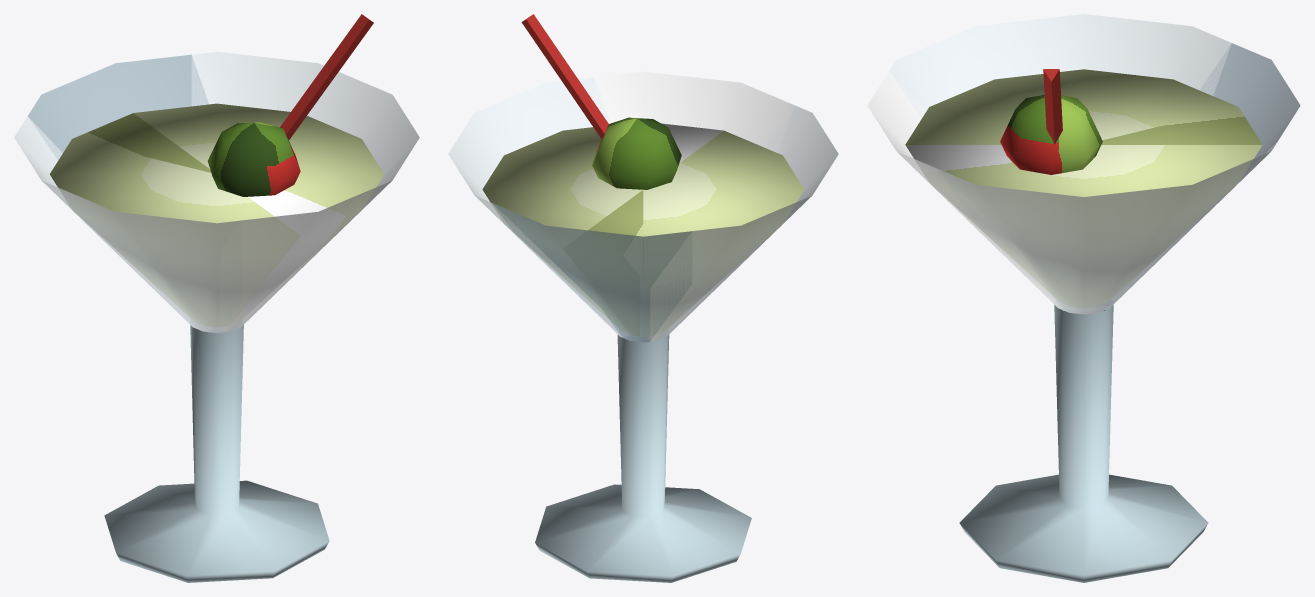
Rendered from drinks-cocktail.glb.
3 renders of one model, left to right at view 1: azimuth 30°, elevation 25°; view 2: azimuth 150°, elevation 25°; view 3: azimuth 270°, elevation 25°, orthographic. The views are drawn at different scales.
Visible parts, largest first — view 1: drinks.cocktail; view 2: drinks.cocktail; view 3: drinks.cocktail.
Part boxes in pixels (bbox=[...]): drinks.cocktail: bbox=[14, 14, 419, 582]; drinks.cocktail: bbox=[448, 14, 838, 582]; drinks.cocktail: bbox=[867, 14, 1300, 582].
Bounding box in the file's own units: 1.28 × 1.73 × 1.28.
5 materials, 3 textured.
